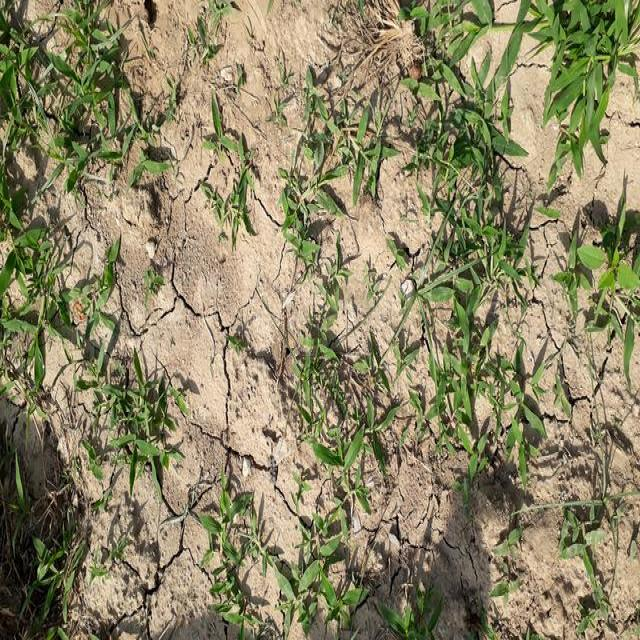weed: (403, 1, 525, 476), (9, 218, 186, 470), (276, 311, 401, 640), (0, 0, 151, 199), (535, 5, 640, 183), (556, 220, 640, 346)
